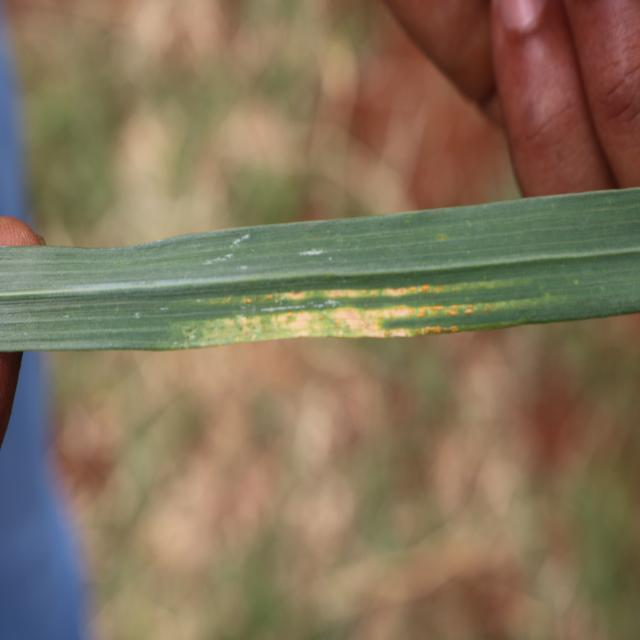Stripe Rust: (179, 274, 484, 352)
